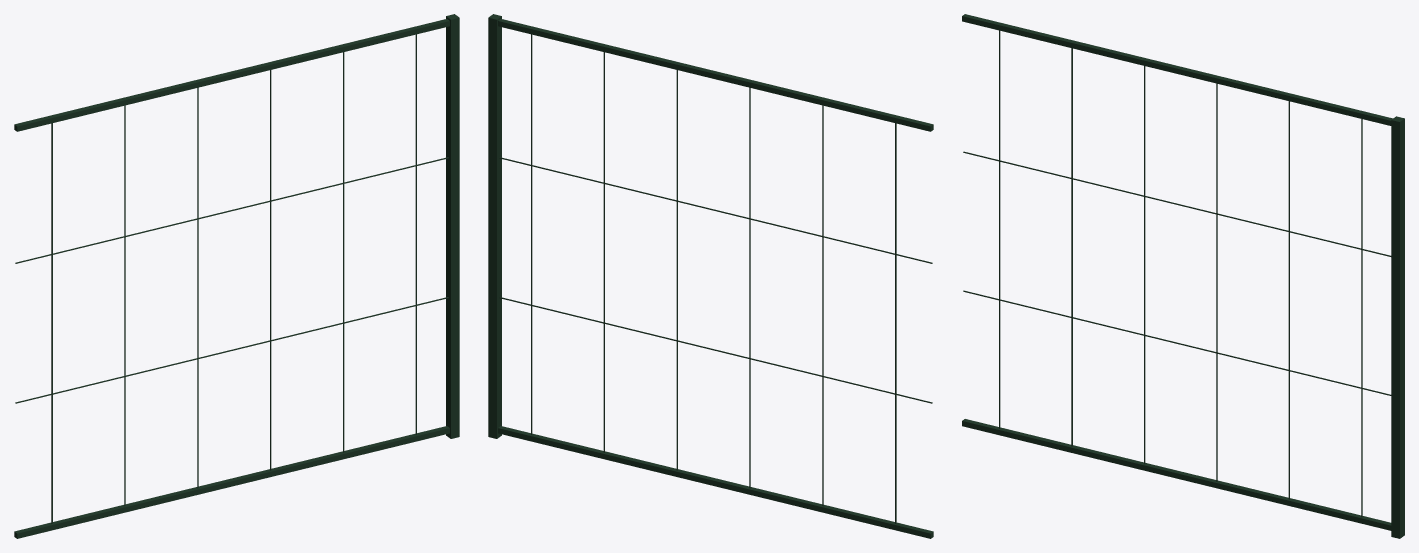
The model's file is SM_Prop_court_fence_0_LOD1.glb.
3 renders of one model, left to right at view 1: azimuth 30°, elevation 25°; view 2: azimuth 150°, elevation 25°; view 3: azimuth 330°, elevation 25°, orthographic.
Visible parts, largest first — view 1: SM_Prop_court_fence_0_LOD1; view 2: SM_Prop_court_fence_0_LOD1; view 3: SM_Prop_court_fence_0_LOD1.
Part boxes in pixels (x1,y1,x2,y2): SM_Prop_court_fence_0_LOD1: (14, 14, 459, 538); SM_Prop_court_fence_0_LOD1: (488, 14, 933, 538); SM_Prop_court_fence_0_LOD1: (962, 14, 1404, 538).
Bounding box in the file's own units: 3.03 × 2.75 × 0.06.
